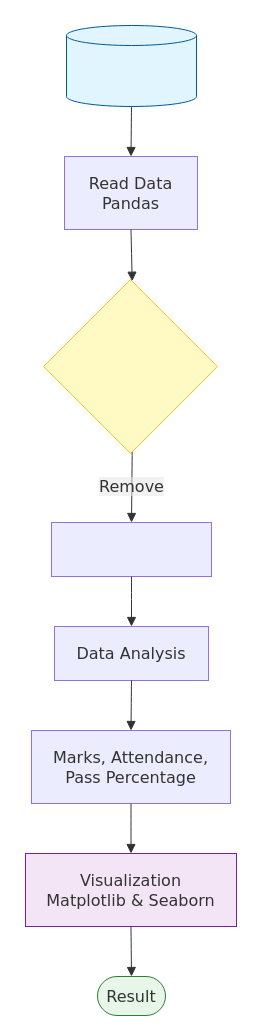
This 254x1033 diagram has some shape labels left out. Each missing label, with the centre of its shape:
"Data Cleaning" belongs at (x=130, y=366).
"Missing Values" belongs at (x=131, y=549).
"Student Dataset CSV" belongs at (x=131, y=65).
